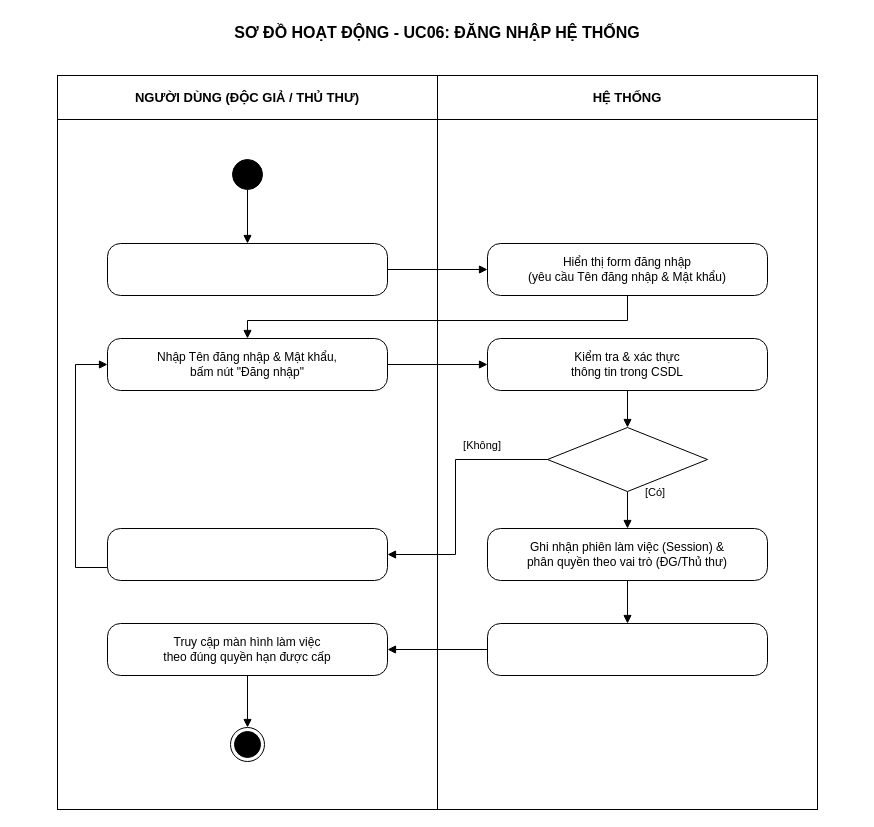
This 874x827 diagram has some shape labels left out. Each missing label, with the centre of its shape:
Bấm nút "Đăng nhập" trên giao diện hệ thống: (247,269)
Hiển thị thông báo: "Tên đăng nhập hoặc mật khẩu sai": (247,554)
Tài khoản & mật khẩu đúng?: (627,459)
Điều hướng tới giao diện tương ứng (Trang cá nhân hoặc Quản trị): (627,649)
